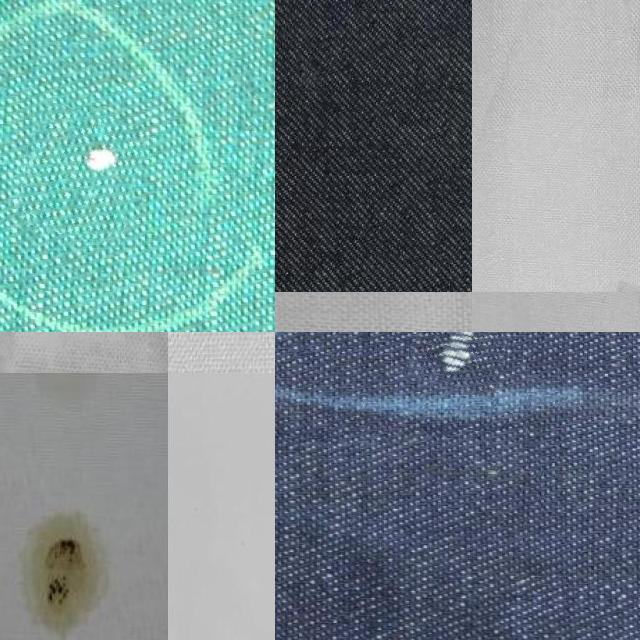Thread_other: (0, 471, 159, 640), (0, 373, 164, 437)
stains: (20, 106, 143, 242), (409, 332, 511, 395)
